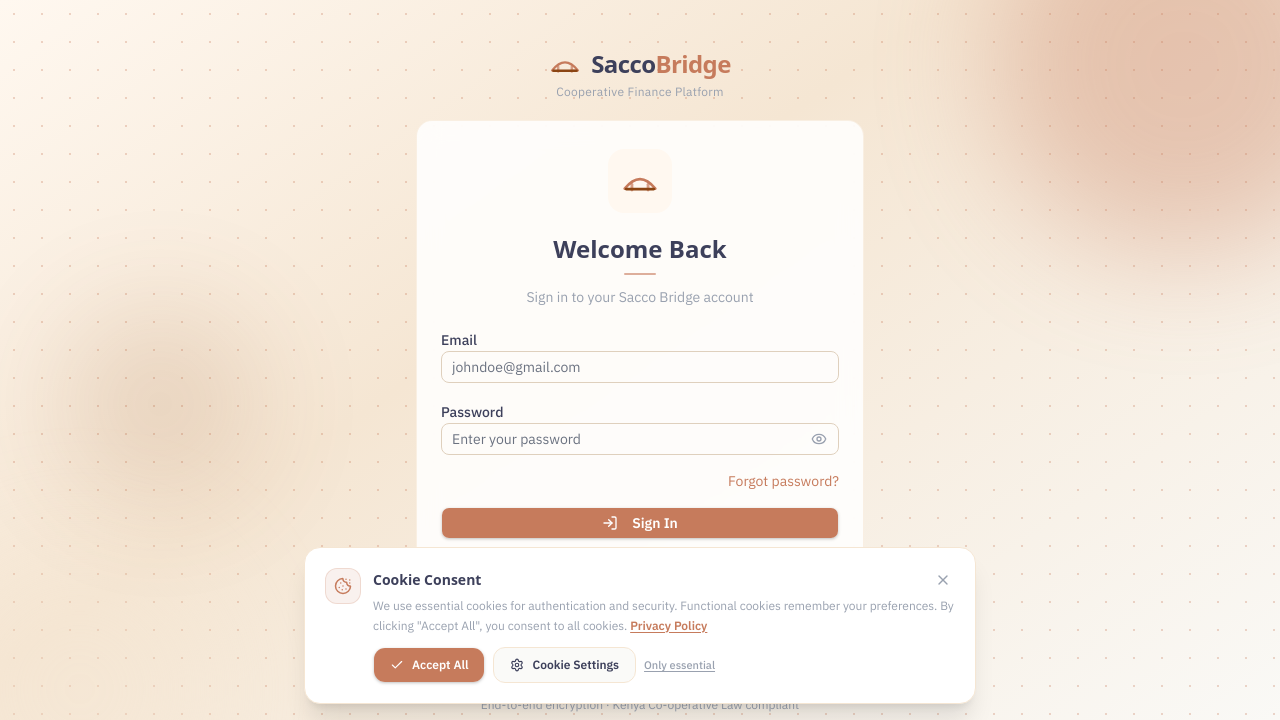
Authentication Flows › 4. Click Forgot password? -> verify reset form displays
Click the button "Forgot password?" at coordinates (784, 481), box [728,471,839,491]
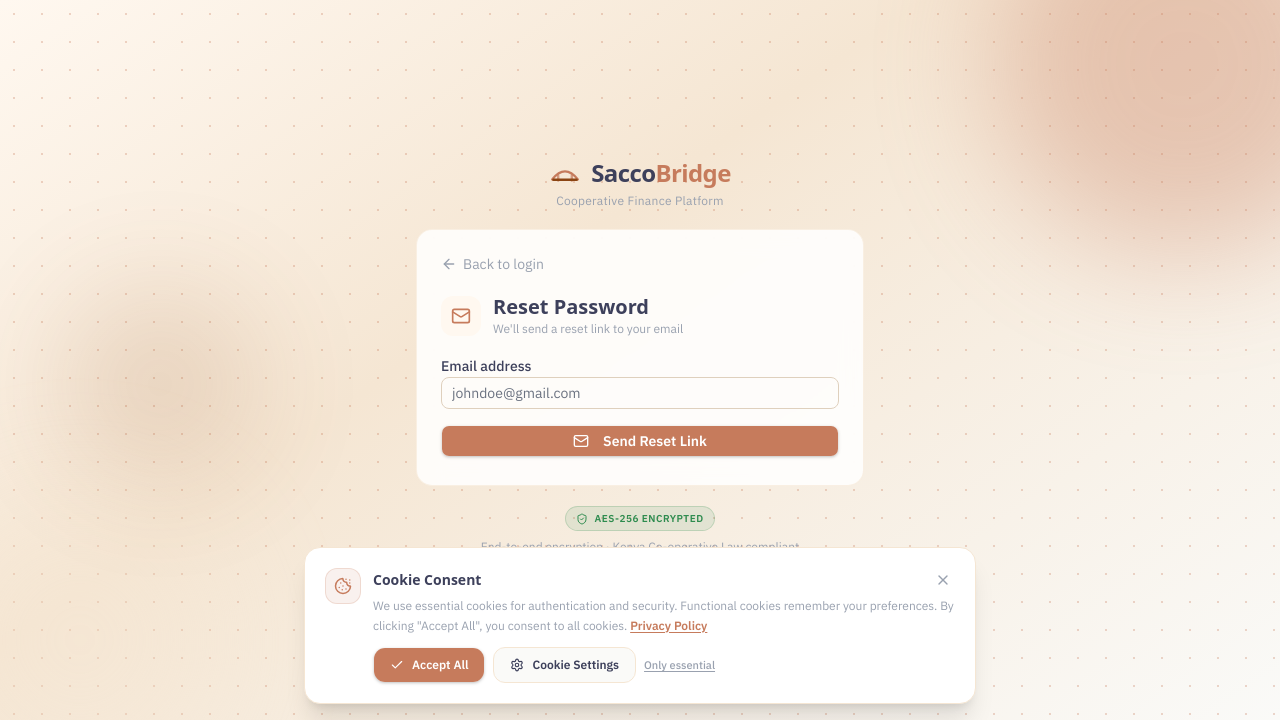
Expected: the field with placeholder "johndoe@gmail.com" is shown, [441,377,839,409]
Result: the heading "Reset Password" is shown at [493,293,649,320]
Result: the button "Back to login" is shown at [441,254,839,274]
